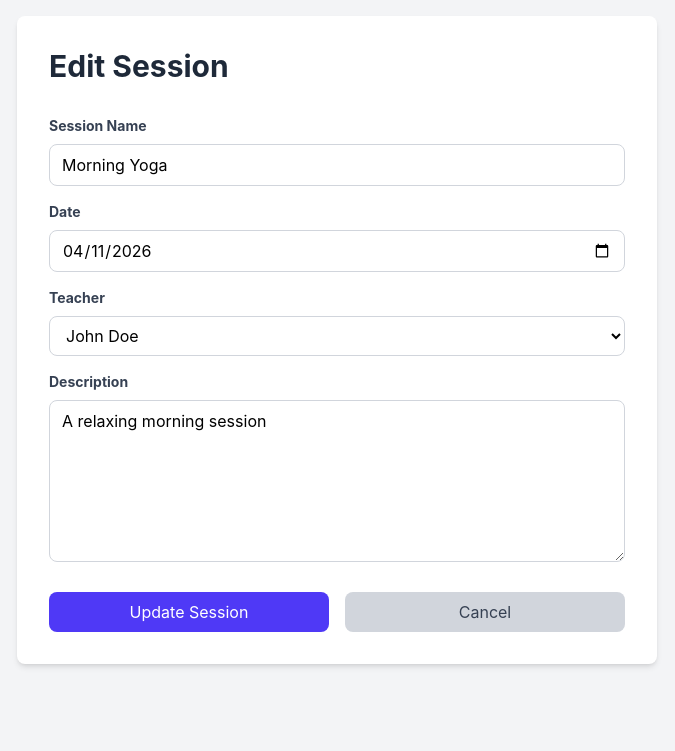
Test: SessionForm › mode édition › affiche une erreur si la modification échoue
The image size is (675, 751).
Check: the field named "name" holds "Morning Yoga", box left=49, top=144, right=625, bottom=186
Click the button "Update Session".
click(189, 612)  # box left=49, top=592, right=329, bottom=632
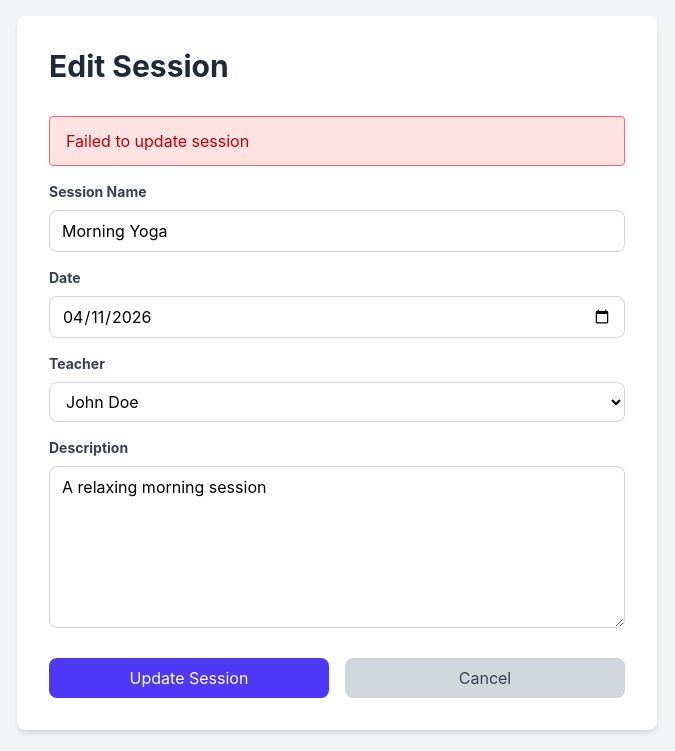
Check: the text "Failed to update session" is shown, box left=49, top=116, right=625, bottom=166
